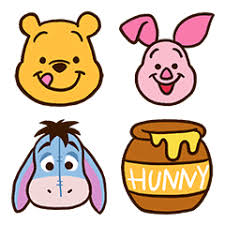Winnie: (7, 6, 108, 110)
